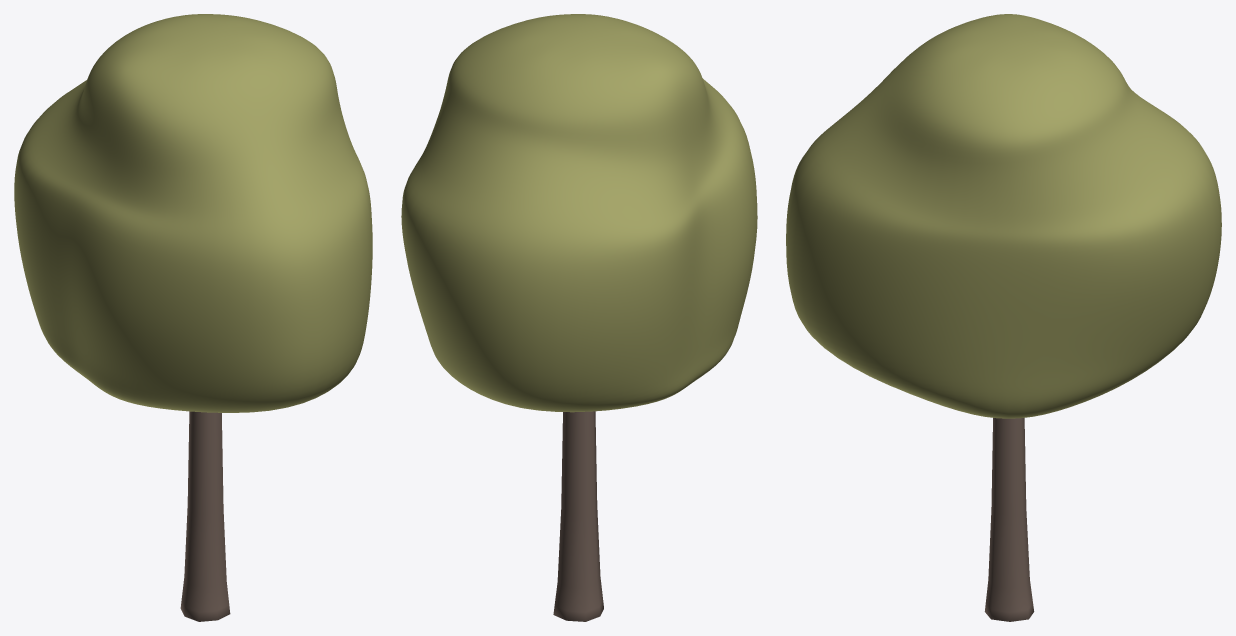
File: Tree_Round_Large_Yellow.fbx
3 renders of one model, left to right at view 1: azimuth 30°, elevation 25°; view 2: azimuth 150°, elevation 25°; view 3: azimuth 270°, elevation 25°, orthographic.
Parts seen in each view (by area): view 1: Leaves, Trunk; view 2: Leaves, Trunk; view 3: Leaves, Trunk.
Part boxes in pixels (x1,y1,x2,y2): Leaves: [14, 14, 372, 412]; Trunk: [180, 411, 230, 621]; Leaves: [401, 14, 757, 412]; Trunk: [553, 411, 603, 621]; Leaves: [786, 14, 1221, 418]; Trunk: [984, 418, 1034, 621].
Bounding box in the file's own units: 0.8896 × 1.81 × 1.25.
